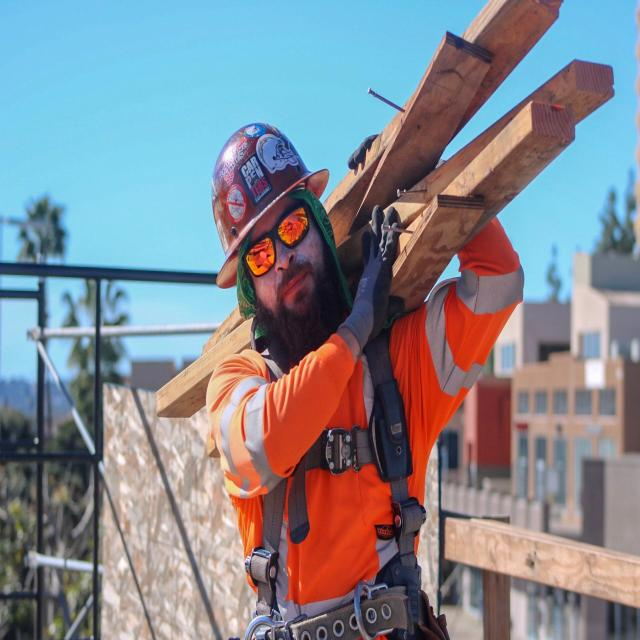goggles: (238, 198, 314, 278)
helmet: (210, 122, 332, 292)
vest: (205, 201, 527, 640)
